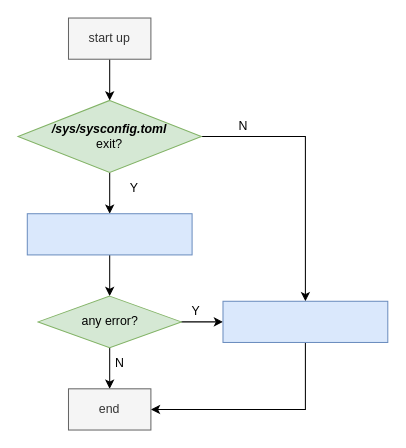
The diagram is 406 pixels wide and 448 high, and some of its shapes have lost their labels. The shapes that lost their labels are listed below. From the top down, each one's box as (x1, y1, x2, y2) in pixels, then its label:
(26, 213, 192, 255): load config from /sys/sysconfig.toml
(222, 300, 388, 342): load default config from default.h
